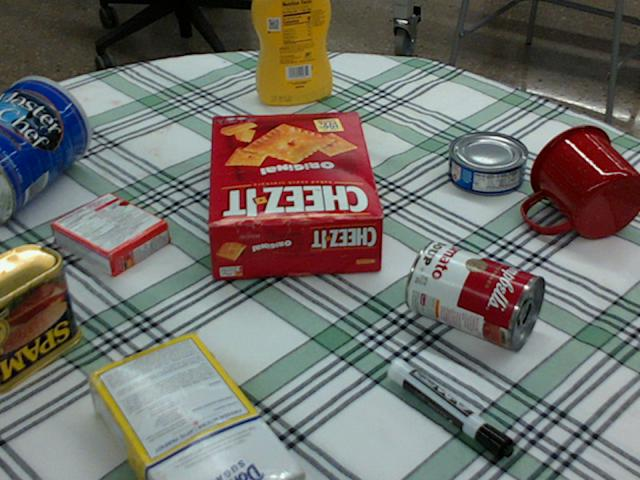cracker_box: (202, 111, 379, 276)
gelatin_box: (51, 190, 169, 277)
large_marker: (389, 359, 513, 462)
master_chef_can: (0, 76, 89, 225)
mug: (523, 125, 639, 239)
mustard_bottle: (252, 0, 332, 105)
potted_meat_can: (0, 241, 81, 391)
sugar_box: (82, 335, 301, 479)
tomato_soup_can: (404, 239, 544, 351)
tuna_fish_can: (448, 132, 529, 195)
